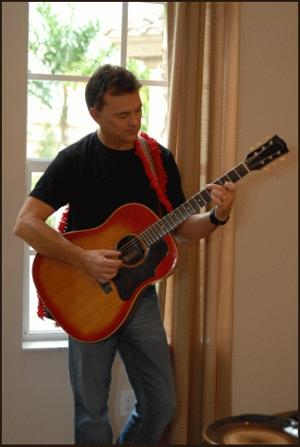person: (14, 64, 236, 444)
